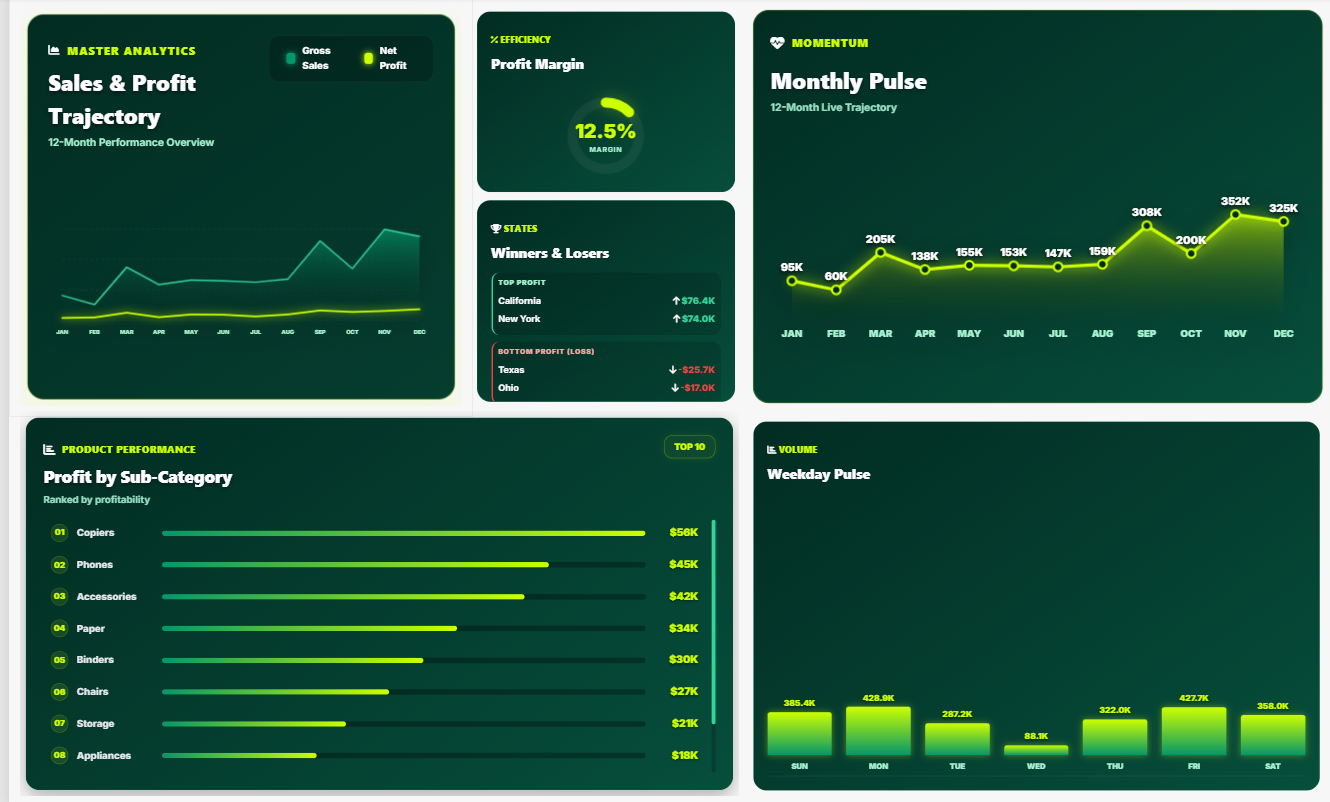

This screenshot's page, from the dashboard's own definition file:
{"tool":"powerbi","page":{"name":"Page 3","canvas":[1920,1170],"ordinal":1},"visuals":[{"type":"htmlContent443BE3AD55E043BF878BED274D3A6855","fields":{"content":["data (2).Rabbit_Weekday_Equalizer"]},"box":[1054.6,593.3,864.1,576.1],"z":0},{"type":"htmlContent443BE3AD55E043BF878BED274D3A6855","fields":{"content":["data (2).Rabbit_Monthly_Pulse"]},"box":[1056.4,0,864.7,607.8],"z":1000},{"type":"htmlContent443BE3AD55E043BF878BED274D3A6855","fields":{"content":["data (2).Rabbit_Master_Trend"]},"box":[0,0,671.1,607.8],"z":2000},{"type":"htmlContent443BE3AD55E043BF878BED274D3A6855","fields":{"content":["data (2).Rabbit_Winners_Losers"]},"box":[654.8,273.1,417.8,334.3],"z":3000},{"type":"htmlContent443BE3AD55E043BF878BED274D3A6855","fields":{"content":["data (2).Rabbit_Top_SubCategories"]},"box":[51.6,650.7,474.4,423.8],"z":4000},{"type":"htmlContent443BE3AD55E043BF878BED274D3A6855","fields":{"content":["data (2).ProfitBySubCategory_HTML"]},"box":[0,586.1,1072.1,585],"z":5000},{"type":"htmlContent443BE3AD55E043BF878BED274D3A6855","fields":{"content":["data (2).Rabbit_Profit_Margin"]},"box":[654.8,0,417.9,303.9],"z":6000}]}

Visuals, with their boxes in screenshot pixels (x1, y1, x2, y2), scaled from the page's 1920x1170 canvas onto the 1330x802 screenshot:
htmlContent443BE3AD55E043BF878BED274D3A6855 - data (2).Rabbit_Weekday_Equalizer: (731, 407, 1329, 801)
htmlContent443BE3AD55E043BF878BED274D3A6855 - data (2).Rabbit_Monthly_Pulse: (732, 0, 1329, 417)
htmlContent443BE3AD55E043BF878BED274D3A6855 - data (2).Rabbit_Master_Trend: (0, 0, 465, 417)
htmlContent443BE3AD55E043BF878BED274D3A6855 - data (2).Rabbit_Winners_Losers: (454, 187, 743, 416)
htmlContent443BE3AD55E043BF878BED274D3A6855 - data (2).Rabbit_Top_SubCategories: (36, 446, 364, 737)
htmlContent443BE3AD55E043BF878BED274D3A6855 - data (2).ProfitBySubCategory_HTML: (0, 402, 743, 801)
htmlContent443BE3AD55E043BF878BED274D3A6855 - data (2).Rabbit_Profit_Margin: (454, 0, 743, 208)
